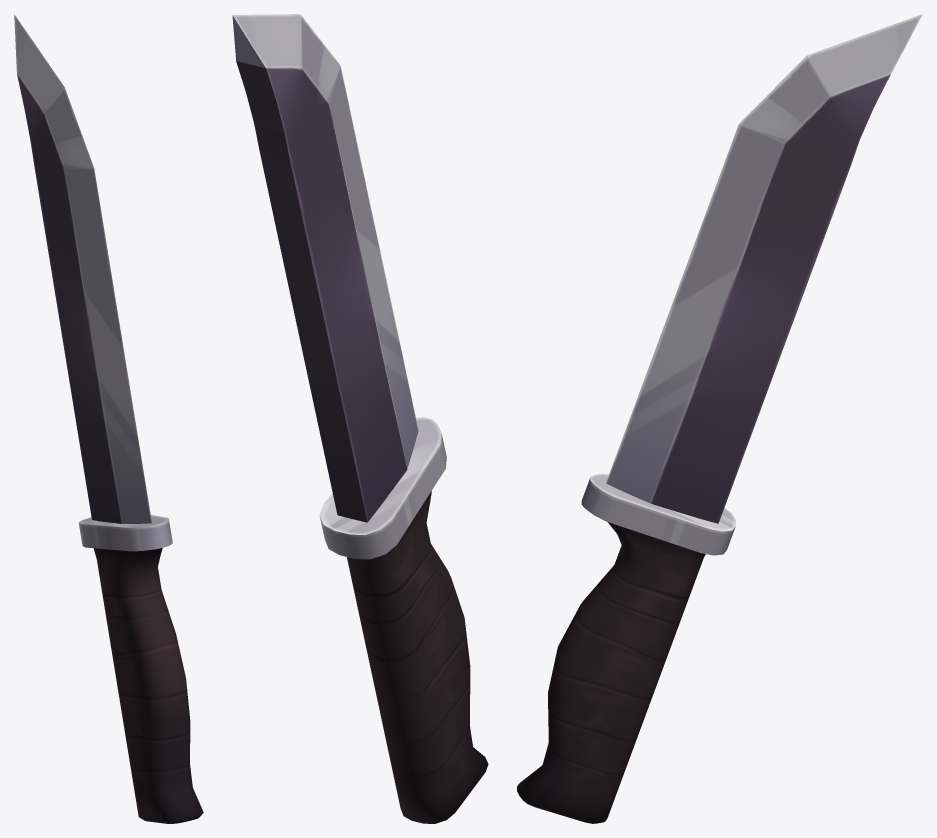
Rendered from Shiv.fbx.
The picture shows the model from 3 angles, left to right: view 1: azimuth 30°, elevation 25°; view 2: azimuth 150°, elevation 25°; view 3: azimuth 270°, elevation 25°; orthographic projection. The views are drawn at different scales.
Parts seen in each view (by area): view 1: murderer_weapon; view 2: murderer_weapon; view 3: murderer_weapon.
Boxes of the visible parts, <box> form: murderer_weapon: <box>14,14,203,823</box>; murderer_weapon: <box>232,14,488,823</box>; murderer_weapon: <box>517,14,922,823</box>.
Size of the model in its own units: 531 by 7042 by 3218.
